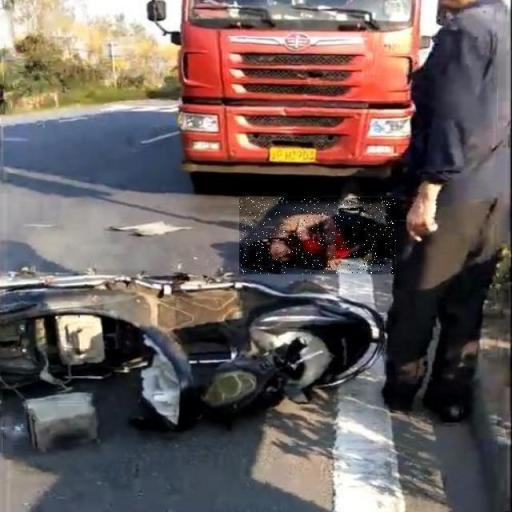Fall: (240, 198, 397, 275)
